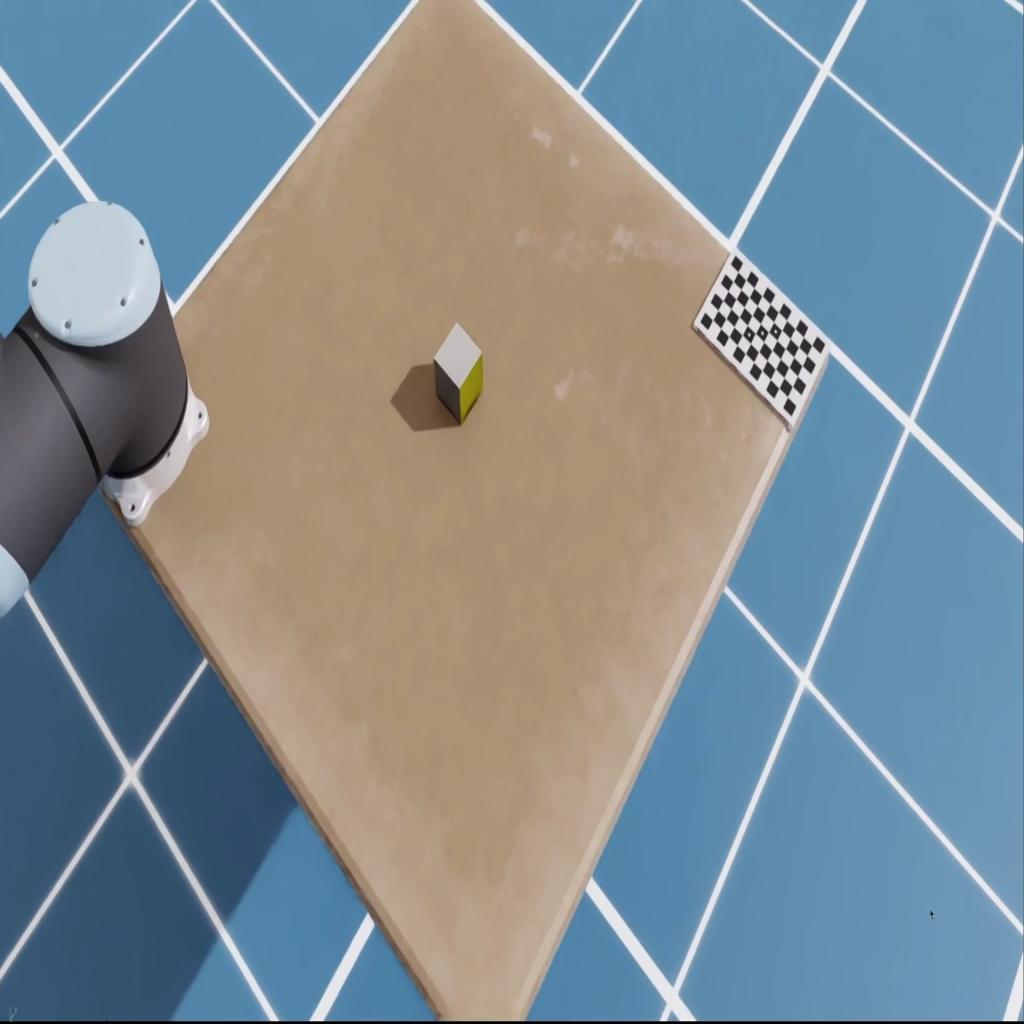Cube: (433, 321, 483, 425)
QR: (692, 248, 830, 434)
Robot: (0, 202, 209, 618)
Table: (76, 0, 830, 1023)
